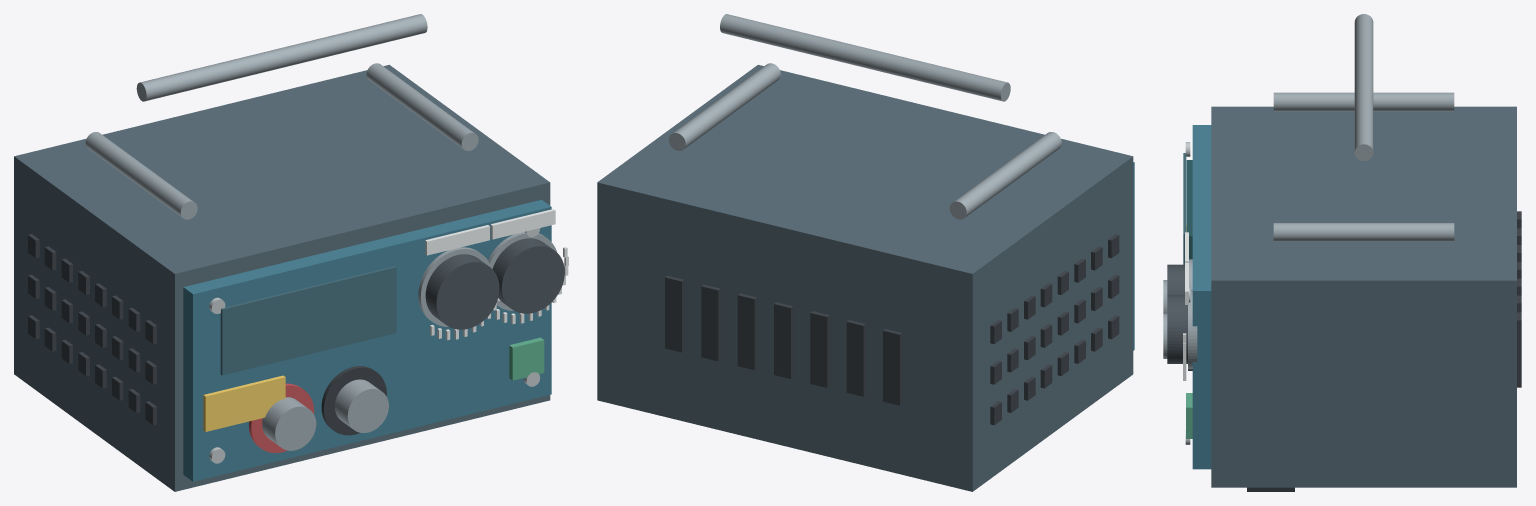
The model's file is power_supply_lod0.glb.
3 views of the same model, side by side, from view 1: azimuth 30°, elevation 25°; view 2: azimuth 150°, elevation 25°; view 3: azimuth 270°, elevation 25° (orthographic). The views are drawn at different scales.
Parts seen in each view (by area): view 1: PSU_BODY_MAT_METAL_DARK, PSU_FRONT_MAT_POLYMER_BLUE, PSU_SCREEN_GLASS_MAT_SCREEN_GLASS, HANDLE_TOP_MAT_METAL_BRUSHED, KNOB_VOLTAGE_MAT_POLYMER_BLACK, KNOB_CURRENT_MAT_POLYMER_BLACK, PSU_WARNING_LABEL_MAT_WARNING, HANDLE_RIGHT_MAT_METAL_BRUSHED, HANDLE_LEFT_MAT_METAL_BRUSHED, OUTPUT_NEG_MAT_METAL_BRUSHED, OUTPUT_POS_MAT_METAL_BRUSHED, OUTPUT_NEG_INSULATOR_MAT_BLACK (+6 smaller); view 2: PSU_BODY_MAT_METAL_DARK, HANDLE_TOP_MAT_METAL_BRUSHED, HANDLE_LEFT_MAT_METAL_BRUSHED, HANDLE_RIGHT_MAT_METAL_BRUSHED, VENT_5_MAT_BLACK, VENT_0_MAT_BLACK, VENT_6_MAT_BLACK, VENT_1_MAT_BLACK, VENT_2_MAT_BLACK, VENT_4_MAT_BLACK, VENT_3_MAT_BLACK; view 3: PSU_BODY_MAT_METAL_DARK, PSU_FRONT_MAT_POLYMER_BLUE, HANDLE_RIGHT_MAT_METAL_BRUSHED, HANDLE_LEFT_MAT_METAL_BRUSHED, HANDLE_TOP_MAT_METAL_BRUSHED, KNOB_CURRENT_MAT_POLYMER_BLACK, PSU_SCREEN_MAT_EMISSIVE_SCREEN, KNOB_VOLTAGE_MAT_POLYMER_BLACK, KNOB_RING_1_MAT_METAL_BRUSHED.
Boxes of the visible parts, x1,y1,x2,y2 form: PSU_BODY_MAT_METAL_DARK: [14, 64, 550, 491]; PSU_FRONT_MAT_POLYMER_BLUE: [183, 199, 551, 481]; PSU_SCREEN_GLASS_MAT_SCREEN_GLASS: [220, 266, 396, 375]; HANDLE_TOP_MAT_METAL_BRUSHED: [136, 14, 427, 101]; KNOB_VOLTAGE_MAT_POLYMER_BLACK: [425, 254, 499, 329]; KNOB_CURRENT_MAT_POLYMER_BLACK: [492, 238, 564, 313]; PSU_WARNING_LABEL_MAT_WARNING: [203, 375, 285, 431]; HANDLE_RIGHT_MAT_METAL_BRUSHED: [366, 63, 478, 150]; HANDLE_LEFT_MAT_METAL_BRUSHED: [85, 132, 197, 219]; OUTPUT_NEG_MAT_METAL_BRUSHED: [335, 379, 388, 432]; OUTPUT_POS_MAT_METAL_BRUSHED: [262, 397, 316, 450]; OUTPUT_NEG_INSULATOR_MAT_BLACK: [321, 366, 386, 435]; PSU_BODY_MAT_METAL_DARK: [597, 64, 1133, 491]; HANDLE_TOP_MAT_METAL_BRUSHED: [720, 14, 1010, 101]; HANDLE_LEFT_MAT_METAL_BRUSHED: [949, 132, 1061, 219]; HANDLE_RIGHT_MAT_METAL_BRUSHED: [669, 63, 780, 150]; VENT_5_MAT_BLACK: [701, 284, 720, 361]; VENT_0_MAT_BLACK: [883, 329, 902, 405]; VENT_6_MAT_BLACK: [665, 275, 684, 352]; VENT_1_MAT_BLACK: [846, 320, 865, 396]; VENT_2_MAT_BLACK: [810, 311, 829, 387]; VENT_4_MAT_BLACK: [737, 293, 756, 370]; VENT_3_MAT_BLACK: [774, 302, 793, 378]; PSU_BODY_MAT_METAL_DARK: [1211, 106, 1516, 487]; PSU_FRONT_MAT_POLYMER_BLUE: [1192, 125, 1211, 469]; HANDLE_RIGHT_MAT_METAL_BRUSHED: [1273, 223, 1454, 241]; HANDLE_LEFT_MAT_METAL_BRUSHED: [1273, 92, 1454, 111]; HANDLE_TOP_MAT_METAL_BRUSHED: [1354, 14, 1373, 160]; KNOB_CURRENT_MAT_POLYMER_BLACK: [1167, 295, 1187, 363]; PSU_SCREEN_MAT_EMISSIVE_SCREEN: [1186, 160, 1192, 259]; KNOB_VOLTAGE_MAT_POLYMER_BLACK: [1167, 264, 1184, 294]; KNOB_RING_1_MAT_METAL_BRUSHED: [1188, 289, 1197, 369].
Size of the model in its own units: 1.58 by 1.38 by 1.35.
